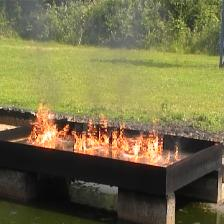fire: (73, 113, 178, 166), (29, 101, 70, 148)
